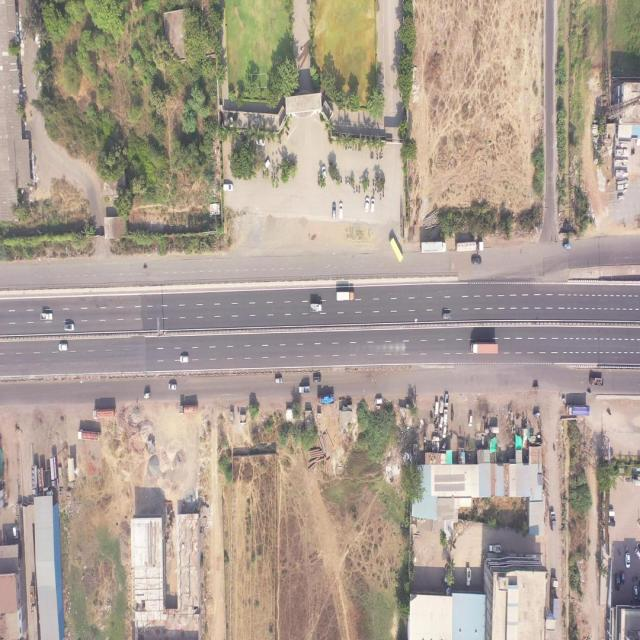3W: (562, 243, 572, 250), (533, 384, 540, 391), (144, 392, 150, 400), (534, 411, 540, 418)
Cars: (615, 574, 620, 592), (180, 355, 189, 364), (224, 184, 234, 192), (168, 383, 178, 391), (625, 553, 630, 569), (434, 400, 439, 415), (442, 424, 447, 439), (633, 585, 638, 600), (365, 195, 369, 213), (332, 202, 336, 220), (443, 311, 451, 320), (634, 548, 640, 560), (472, 257, 482, 264), (58, 344, 68, 351), (13, 526, 18, 540), (443, 409, 448, 423), (322, 167, 327, 180), (621, 570, 625, 586), (312, 376, 322, 382), (468, 412, 472, 427), (275, 377, 283, 384), (371, 198, 374, 214), (375, 398, 383, 404), (340, 202, 342, 219)
LCV: (310, 303, 323, 312), (551, 511, 556, 531), (489, 544, 501, 552), (444, 392, 450, 407), (40, 314, 54, 320), (298, 387, 311, 393), (490, 426, 500, 433), (64, 324, 74, 330)
M2W: (142, 264, 148, 270), (379, 190, 382, 201), (618, 549, 622, 557), (630, 150, 635, 156), (358, 185, 361, 194), (608, 410, 612, 416), (372, 177, 374, 187), (382, 189, 384, 199), (347, 175, 349, 184), (356, 184, 358, 193), (376, 152, 378, 161), (381, 150, 383, 159), (286, 126, 289, 132), (553, 445, 556, 451), (340, 176, 342, 184), (345, 176, 347, 184), (353, 186, 355, 194), (372, 188, 374, 196), (370, 152, 372, 160), (359, 176, 361, 184), (271, 172, 273, 178), (372, 150, 373, 159)
MAV: (456, 241, 484, 252), (78, 428, 100, 442), (551, 577, 558, 620), (421, 241, 446, 253), (471, 343, 498, 354), (50, 457, 58, 488), (31, 465, 38, 496), (93, 409, 115, 418), (179, 404, 198, 414)
Truck: (566, 404, 590, 416), (317, 395, 334, 406), (336, 292, 355, 301), (590, 376, 604, 385)
